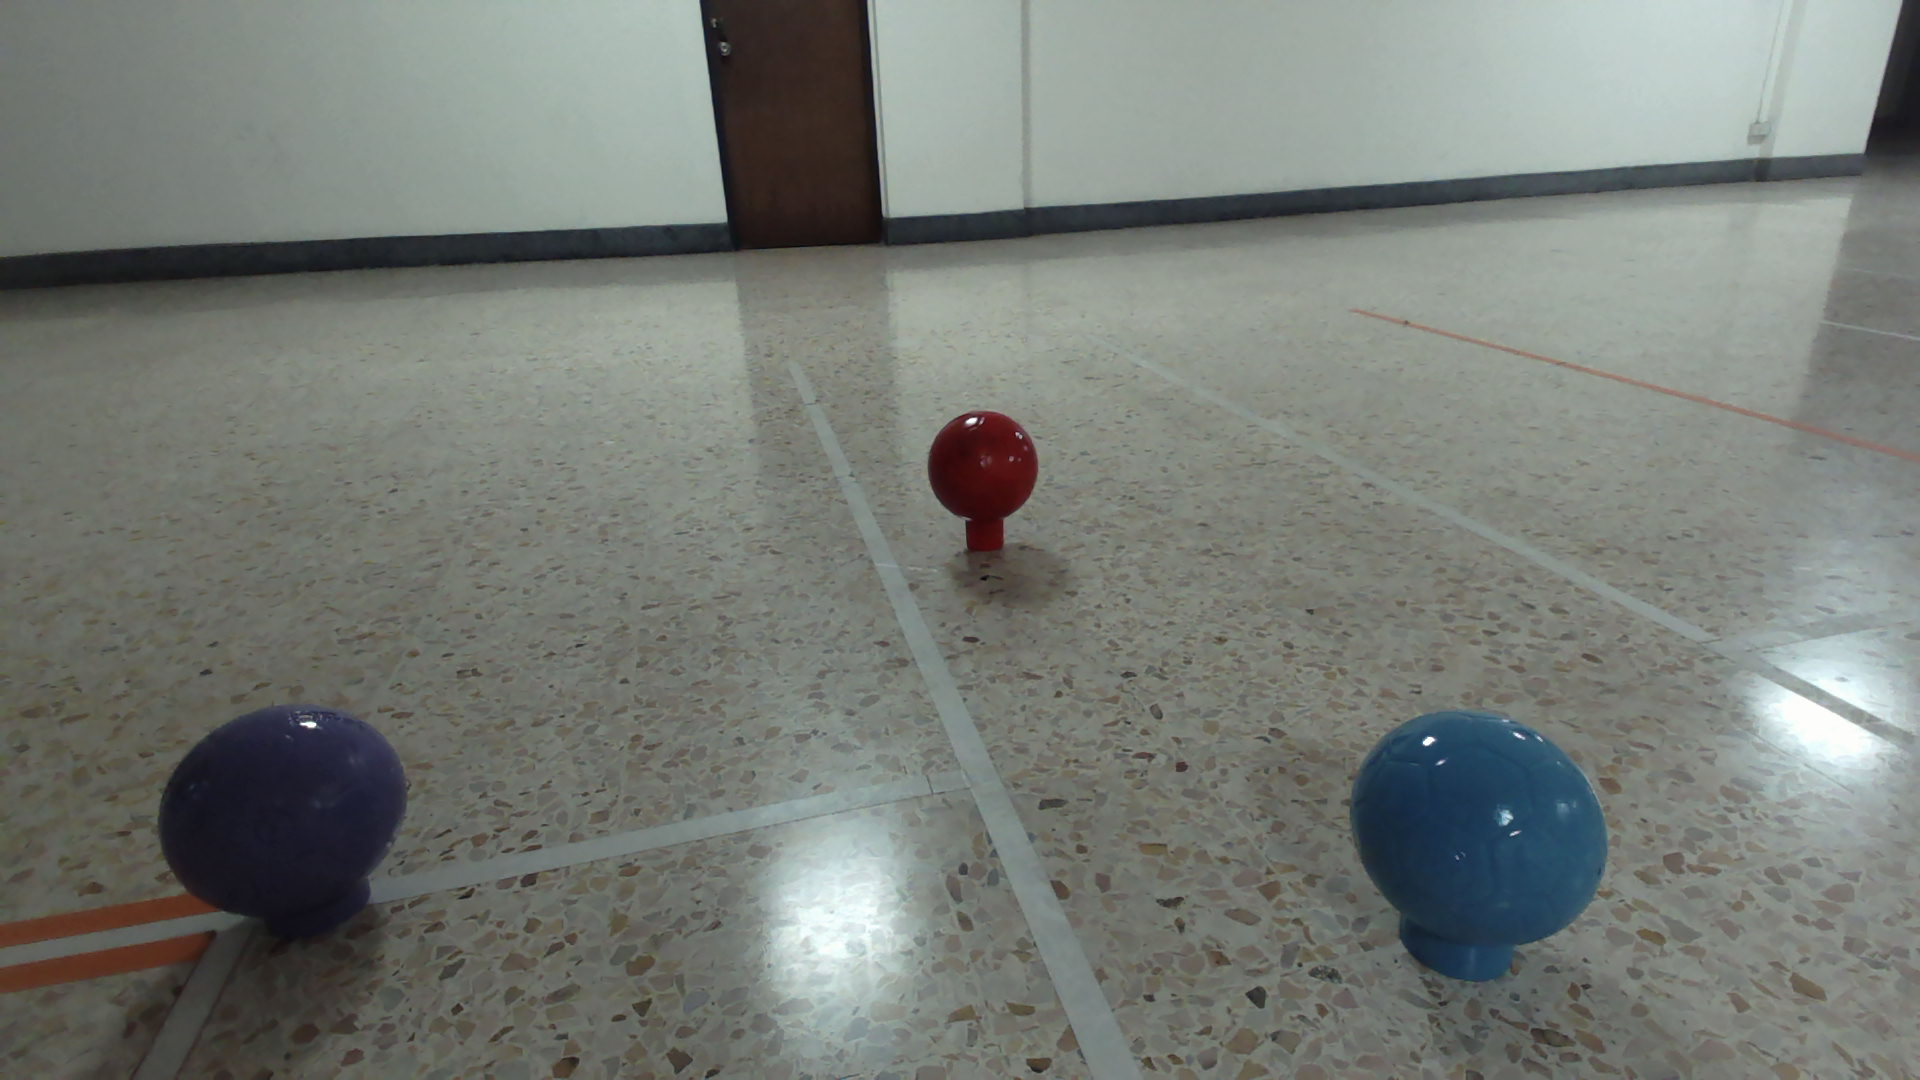Blue ball: (1344, 705, 1614, 948)
Purple ball: (153, 698, 411, 926)
Red ball: (924, 407, 1040, 524)
